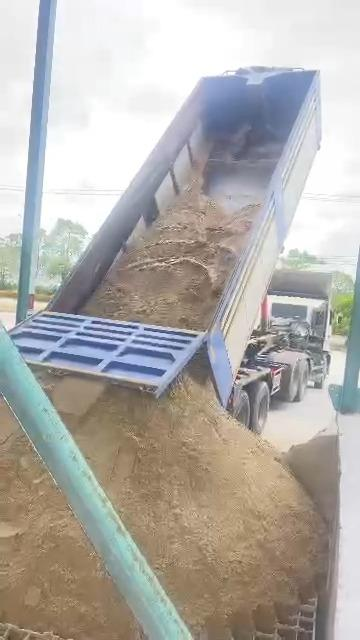sand: (32, 372, 328, 639), (0, 407, 137, 639), (0, 435, 135, 639), (82, 180, 259, 330), (85, 194, 252, 328), (283, 430, 339, 532)
